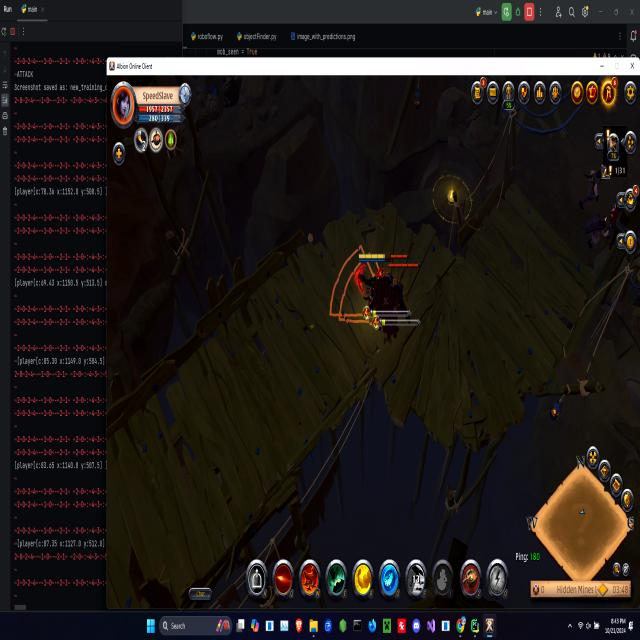ore: (371, 251, 417, 339), (579, 163, 604, 212), (584, 209, 610, 250)
red: (356, 250, 385, 301)
silver: (331, 247, 388, 327)
